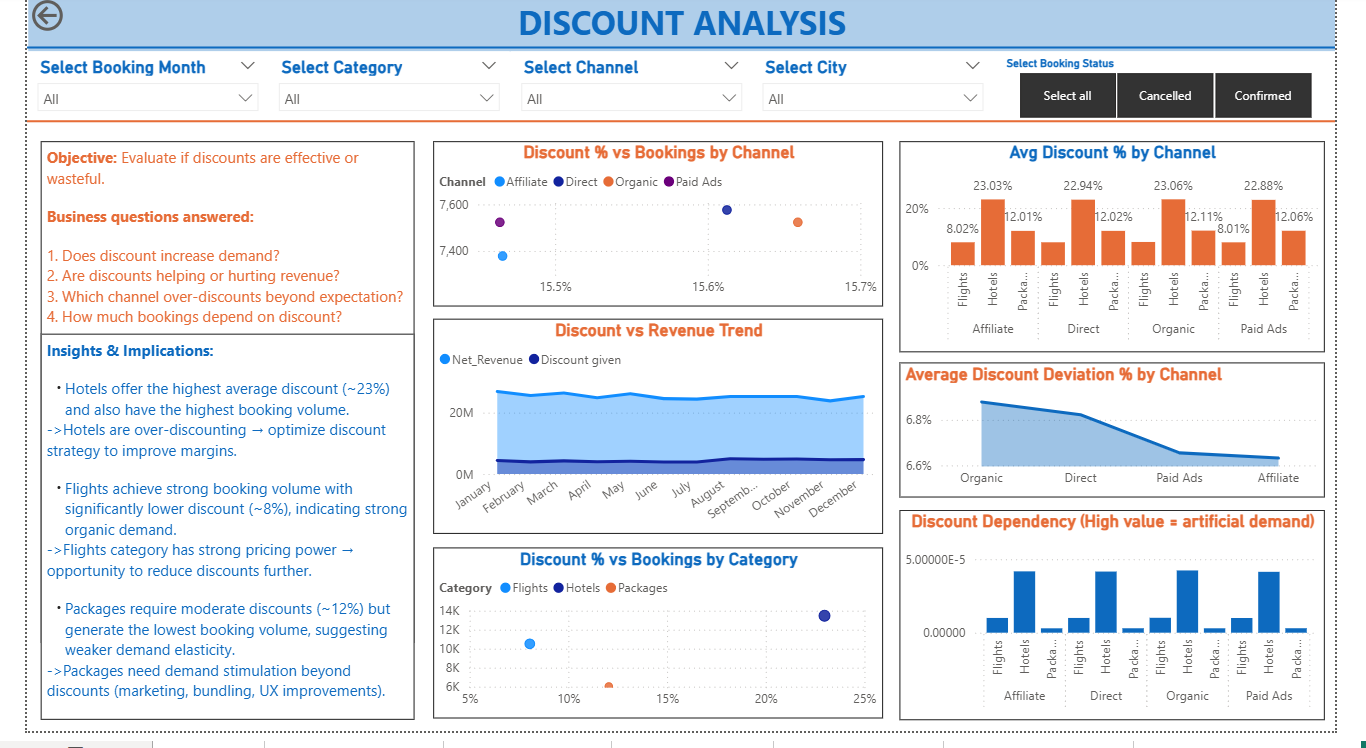

The dashboard page shown, as its layout file describes it:
{"tool":"powerbi","page":{"name":"Discount Analysis","canvas":[1280,720],"ordinal":4},"visuals":[{"type":"textbox","box":[1.2,0,1279.1,55],"z":0},{"type":"columnChart","title":"Discount Dependency (High value = artificial demand)","fields":{"Category":["Bookings_Data.Channel","Bookings_Data.Category"],"Y":["Bookings_Data.Discount Dependency"]},"box":[853.5,503.8,415.8,205.4],"z":1000},{"type":"columnChart","title":"Avg Discount % by Channel","fields":{"Y":["Avg(Bookings_Data.Discount_%)"],"Category":["Bookings_Data.Channel","Bookings_Data.Category"]},"box":[853.5,143.1,415.8,206.7],"z":2000},{"type":"areaChart","title":"Discount vs Revenue Trend","fields":{"Category":["Bookings_Data.Booking_Date.Variation.Date Hierarchy.Month"],"Y":["Sum(Bookings_Data.Net_Revenue)","Sum(Bookings_Data.Discount)"]},"box":[397.4,316.7,440.2,210.3],"z":3000},{"type":"scatterChart","title":"Discount % vs Bookings by Category","fields":{"X":["Avg(Bookings_Data.Discount_%)"],"Y":["CountNonNull(Bookings_Data.Booking_ID)"],"Series":["Bookings_Data.Category"],"Size":["CountNonNull(Bookings_Data.Booking_ID)"]},"box":[397.4,540.5,440.2,167.5],"z":4000},{"type":"scatterChart","title":"Discount % vs Bookings by Channel","fields":{"X":["Avg(Bookings_Data.Discount_%)"],"Y":["CountNonNull(Bookings_Data.Booking_ID)"],"Series":["Bookings_Data.Channel"]},"box":[397.4,143.1,440.2,161.4],"z":5000},{"type":"areaChart","title":"Average Discount Deviation % by Channel ","fields":{"Y":["Avg(Bookings_Data.Discount Deviation)"],"Category":["Bookings_Data.Channel"]},"box":[853.5,359.5,415.8,132.1],"z":6000},{"type":"textbox","box":[13.5,143.1,365.6,490.4],"z":7000},{"type":"slicer","fields":{"Values":["Bookings_Data.Booking_Date.Variation.Date Hierarchy.Month"]},"box":[0,55,236,72.1],"z":8000},{"type":"slicer","fields":{"Values":["Bookings_Data.Category"]},"box":[236,55,236,72.1],"z":9000},{"type":"slicer","fields":{"Values":["Bookings_Data.Channel"]},"box":[473.2,55,236,72.1],"z":10000},{"type":"slicer","fields":{"Values":["Bookings_Data.City"]},"box":[709.2,55,236,72.1],"z":11000},{"type":"slicer","fields":{"Values":["Bookings_Data.Booking_Status"]},"box":[945.2,55,335.1,72.1],"z":12000},{"type":"shape","box":[0,47.7,1280.3,7.3],"z":13000},{"type":"shape","box":[0,119.8,1280.3,7.3],"z":14000},{"type":"actionButton","box":[0,0,100,40],"z":15000},{"type":"textbox","box":[13.5,331.4,365.6,377.9],"z":16000}]}

Visuals, with their boxes in screenshot pixels (x1, y1, x2, y2), scaled from the page's 1280x720 canvas onto the 1366x748 screenshot:
textbox: bbox=(1, 0, 1365, 57)
"Discount Dependency (High value = artificial demand)" columnChart: bbox=(911, 523, 1355, 737)
"Avg Discount % by Channel" columnChart: bbox=(911, 149, 1355, 363)
"Discount vs Revenue Trend" areaChart: bbox=(424, 329, 894, 547)
"Discount % vs Bookings by Category" scatterChart: bbox=(424, 562, 894, 736)
"Discount % vs Bookings by Channel" scatterChart: bbox=(424, 149, 894, 316)
"Average Discount Deviation % by Channel " areaChart: bbox=(911, 373, 1355, 511)
textbox: bbox=(14, 149, 405, 658)
slicer - Bookings_Data.Booking_Date.Variation.Date Hierarchy.Month: bbox=(0, 57, 252, 132)
slicer - Bookings_Data.Category: bbox=(252, 57, 504, 132)
slicer - Bookings_Data.Channel: bbox=(505, 57, 757, 132)
slicer - Bookings_Data.City: bbox=(757, 57, 1009, 132)
slicer - Bookings_Data.Booking_Status: bbox=(1009, 57, 1365, 132)
shape: bbox=(0, 50, 1365, 57)
shape: bbox=(0, 124, 1365, 132)
actionButton: bbox=(0, 0, 107, 42)
textbox: bbox=(14, 344, 405, 737)
